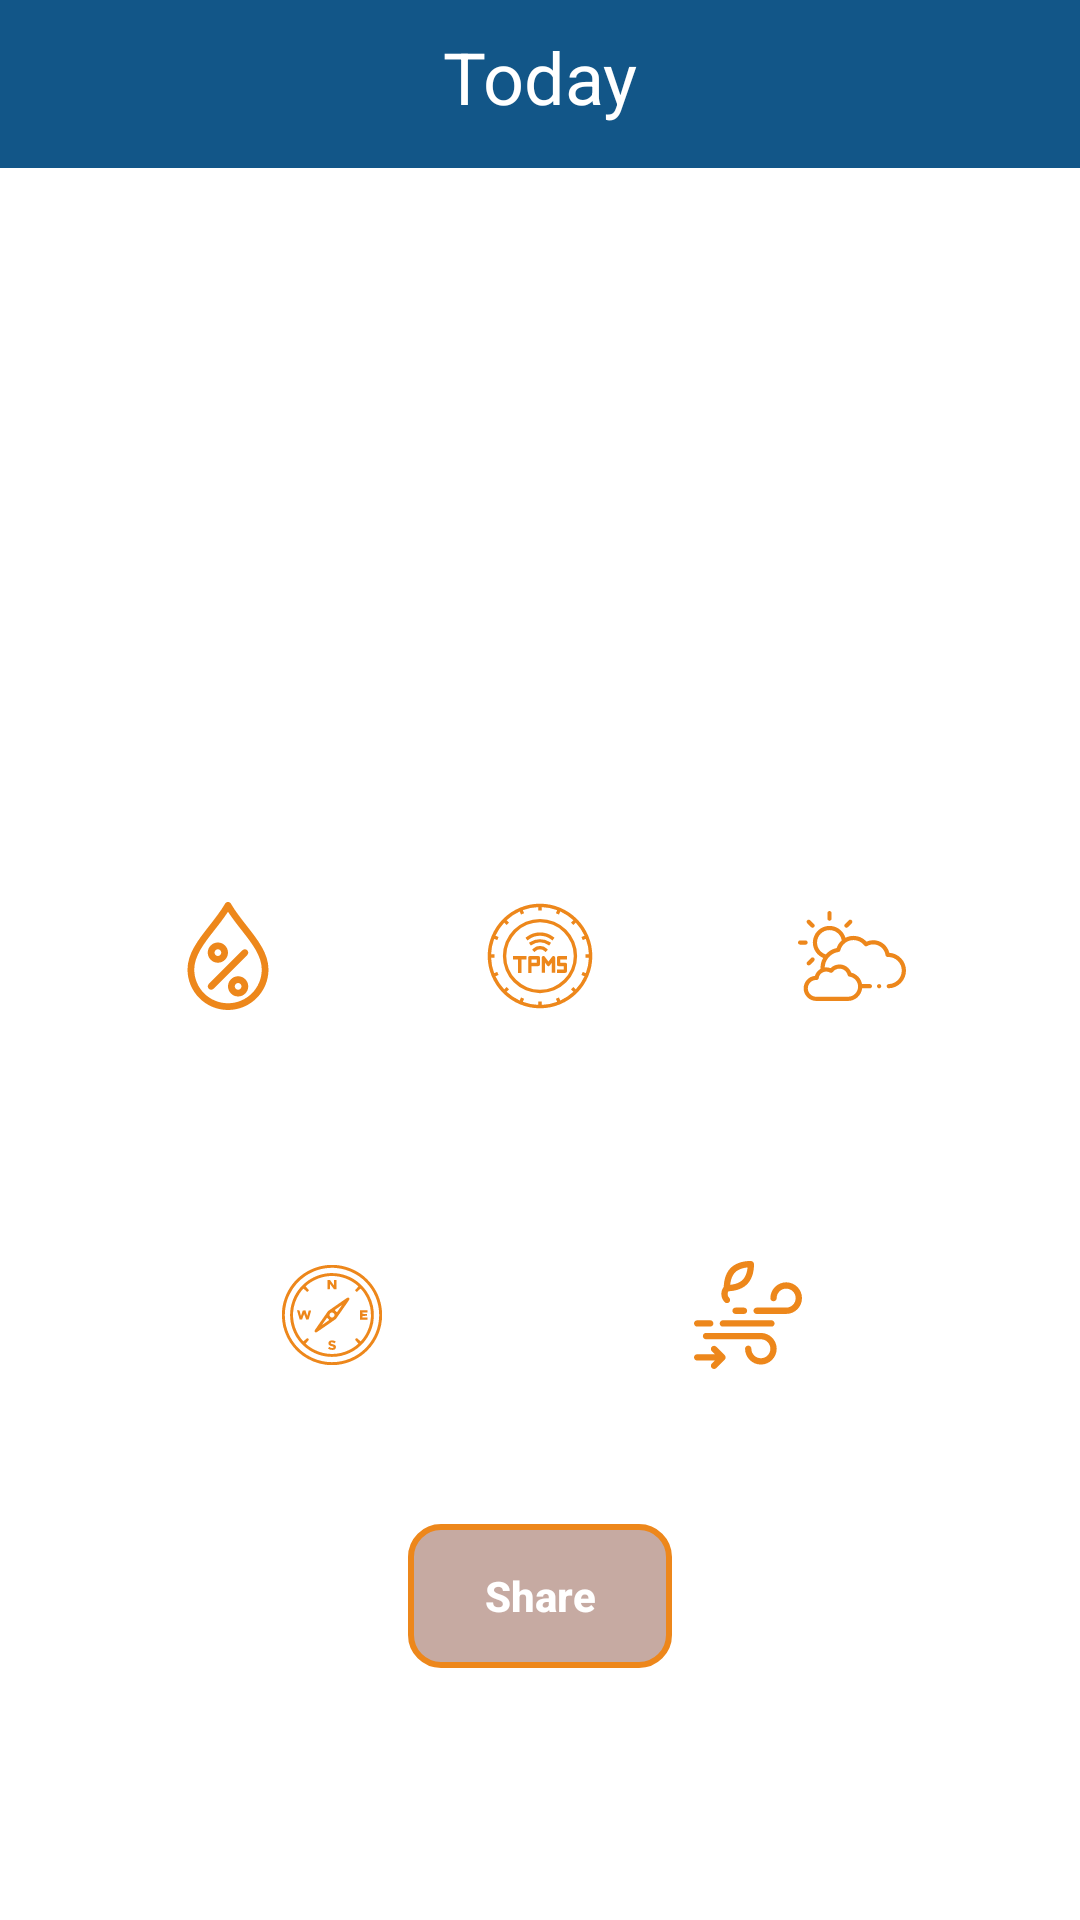

Icons on this 1080 × 1920 Android screen, each with its box as [x1,y1,x2,y2]:
clouds: [798,911,906,1001]
direction wind: [282,1265,382,1365]
humidity: [187,902,269,1010]
pressure: [487,903,593,1009]
speed wind: [694,1261,802,1369]
